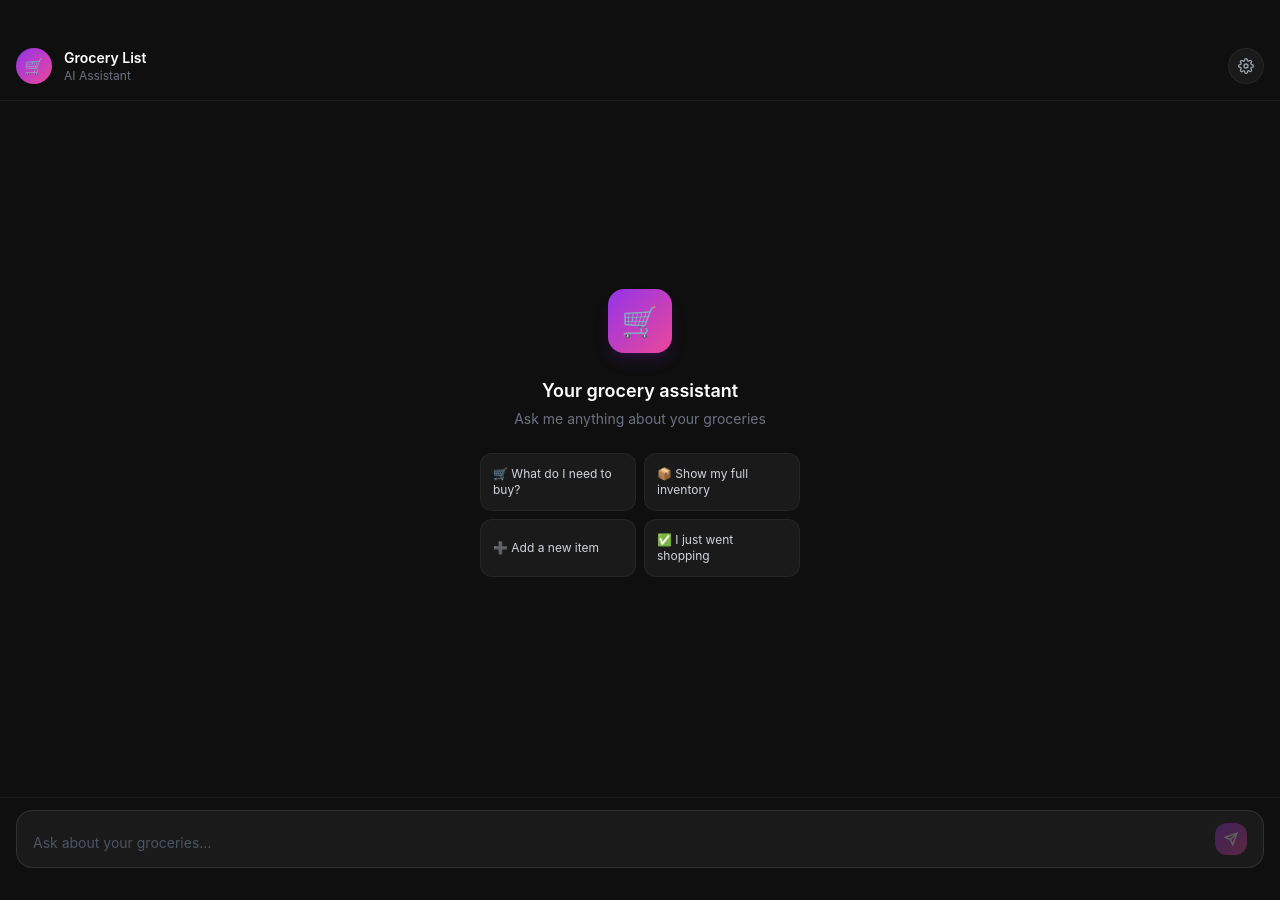
Test case: ChatPage — markdown table response › renders a GFM table as a <table> element after streaming completes
The width and height of the screenshot is (1280, 900).
Click the button "📦 Show my full inventory" at coordinates (722, 482), box [644,453,800,511]
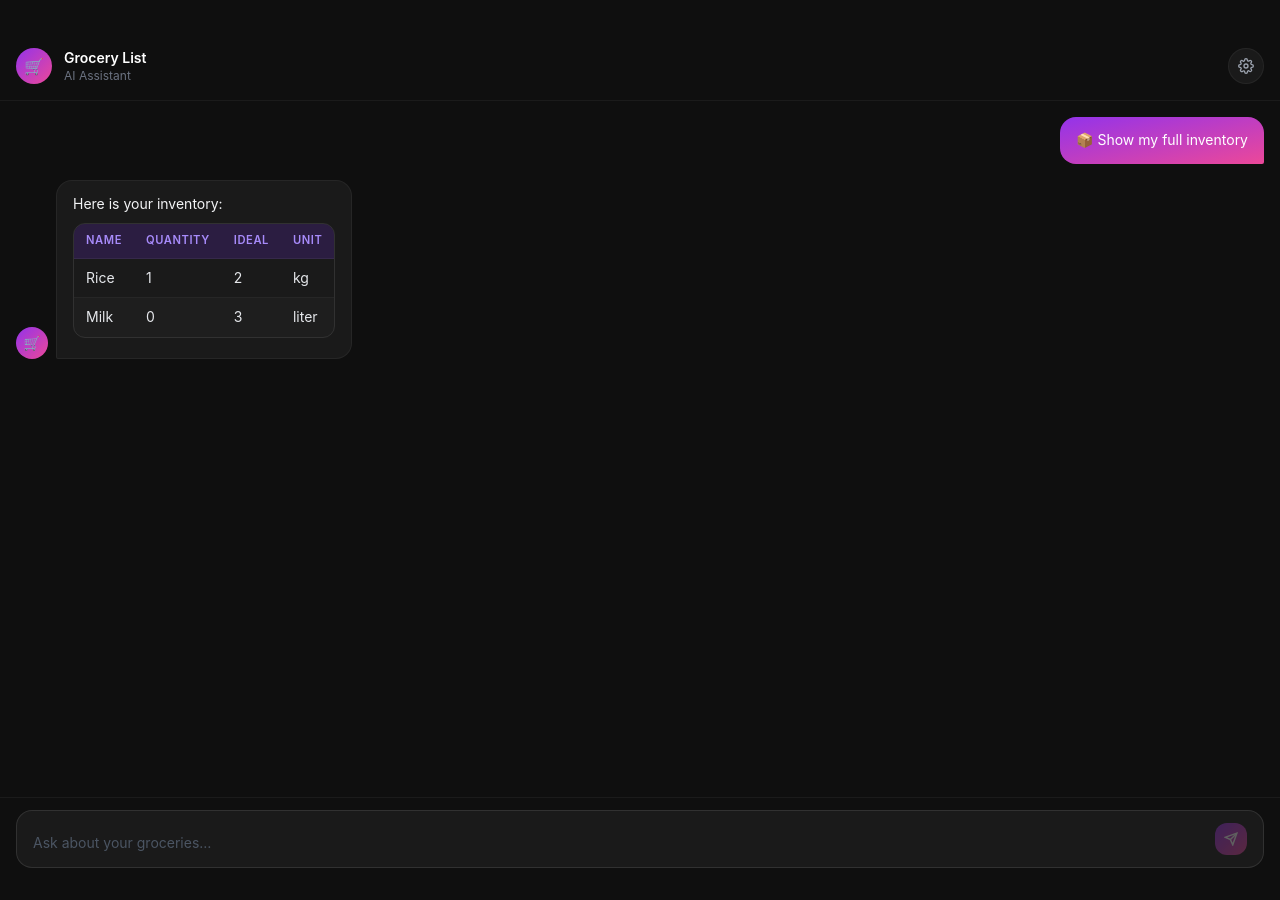
Expected: the table is shown, [74,224,334,337]
Expected: the text "Rice" is shown, [74,259,134,298]
Expected: the text "Milk" is shown, [74,298,134,337]
